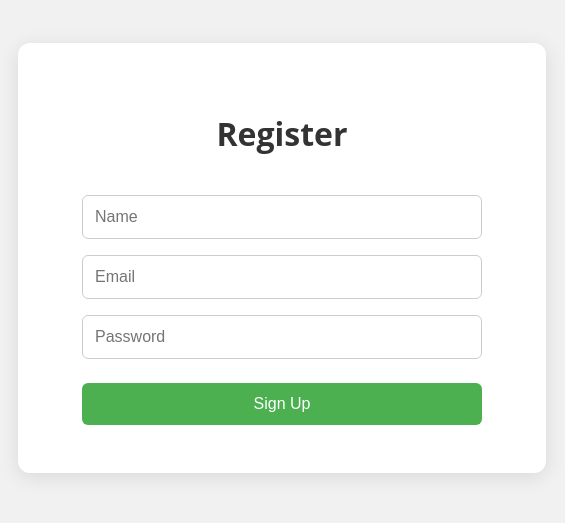
Test: Register Component › should display an error message on failed registration
Type "John Doe" into the field with placeholder "Name" at [282, 217], box left=82, top=195, right=482, bottom=239
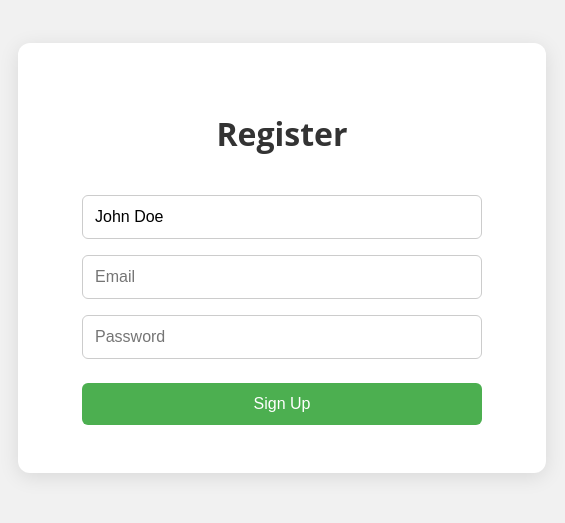
Type "john@example.com" into the field with placeholder "Email" at [282, 277], box left=82, top=255, right=482, bottom=299
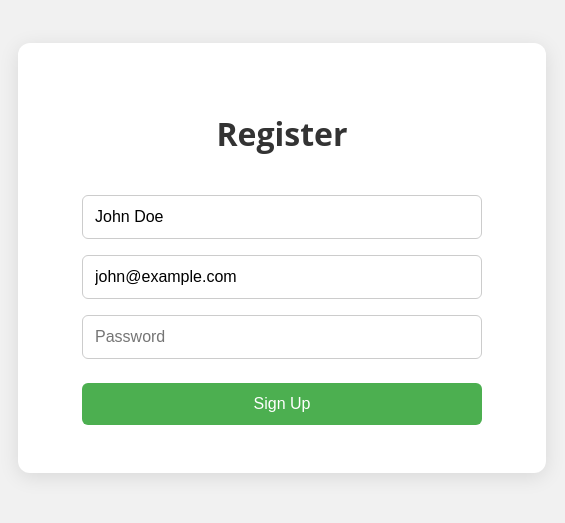
Type "password123" into the password field with placeholder "Password" at [282, 337], box left=82, top=315, right=482, bottom=359
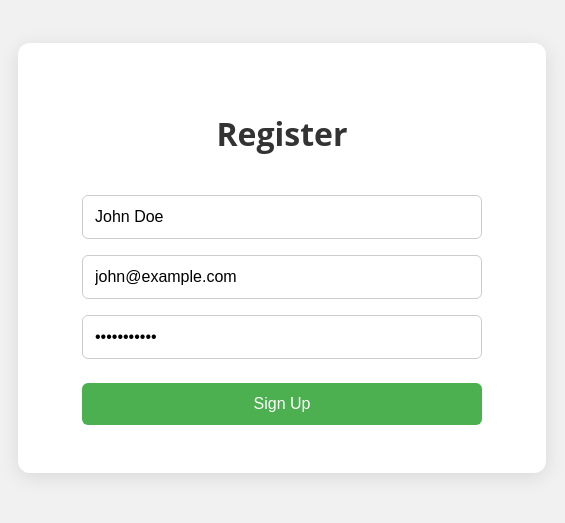
Click the button "Sign Up" at [282, 404], box left=82, top=383, right=482, bottom=425
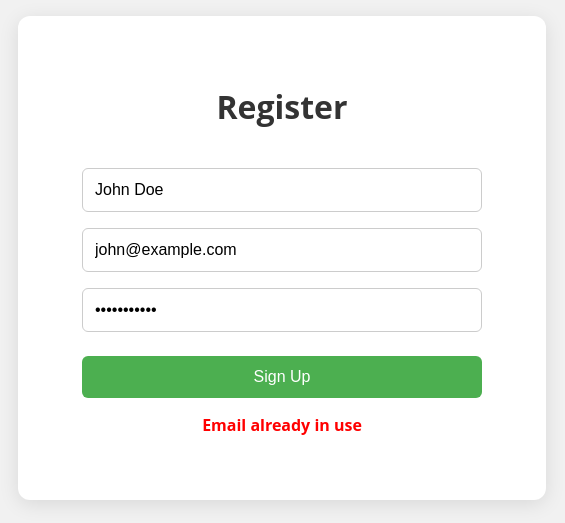
Result: the text "Email already in use" is shown at left=202, top=414, right=362, bottom=436
